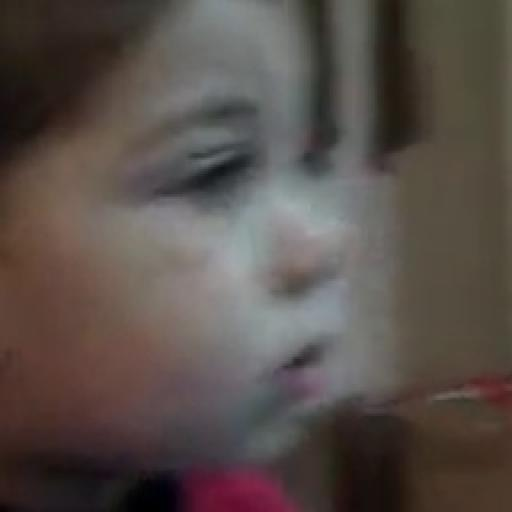Autism: (25, 0, 420, 464)
